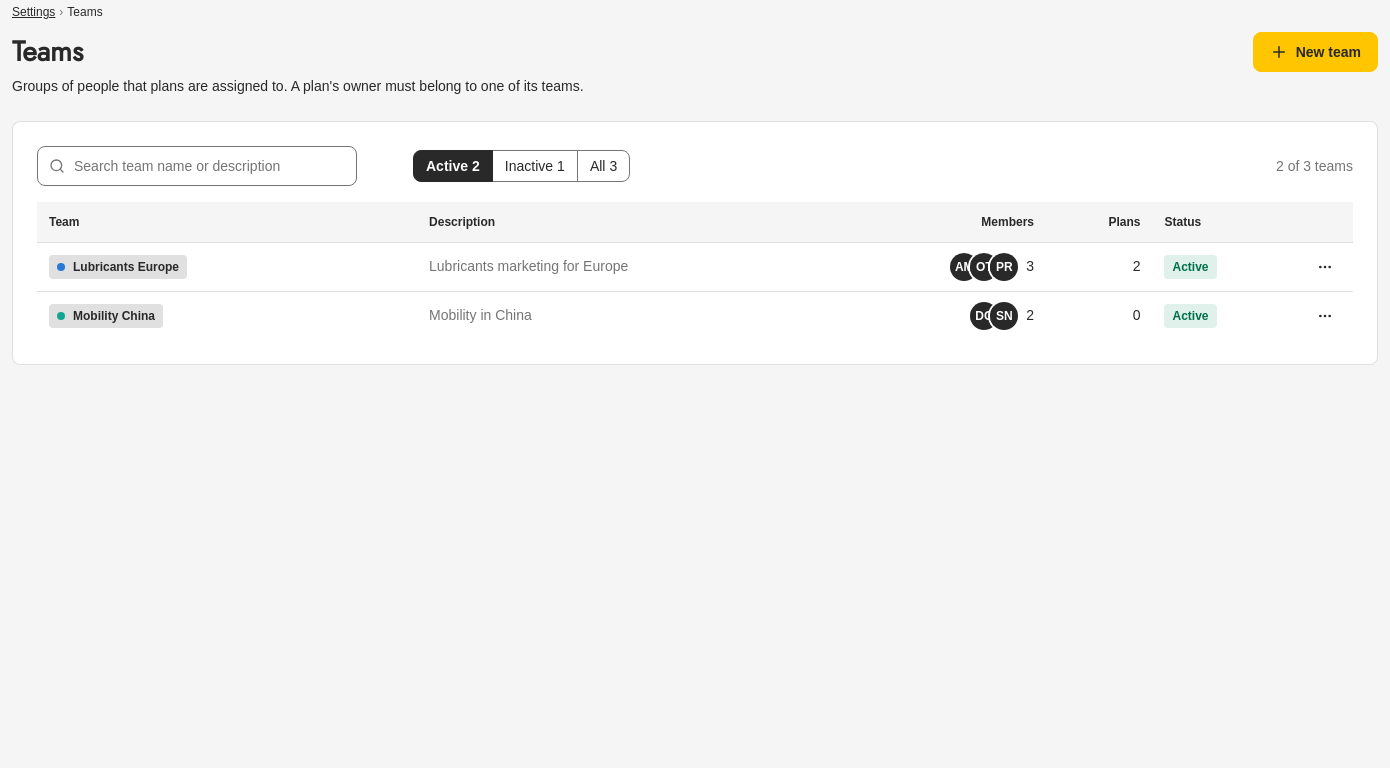
Test: TeamsPage (feature 003, US2): Delete, Set team inactive and Reactivate › sets an unused team inactive at once, with Undo (design system §6.7)
Click the button named "Actions for Mobility China" at (1325, 316), box [1309,300,1341,332]
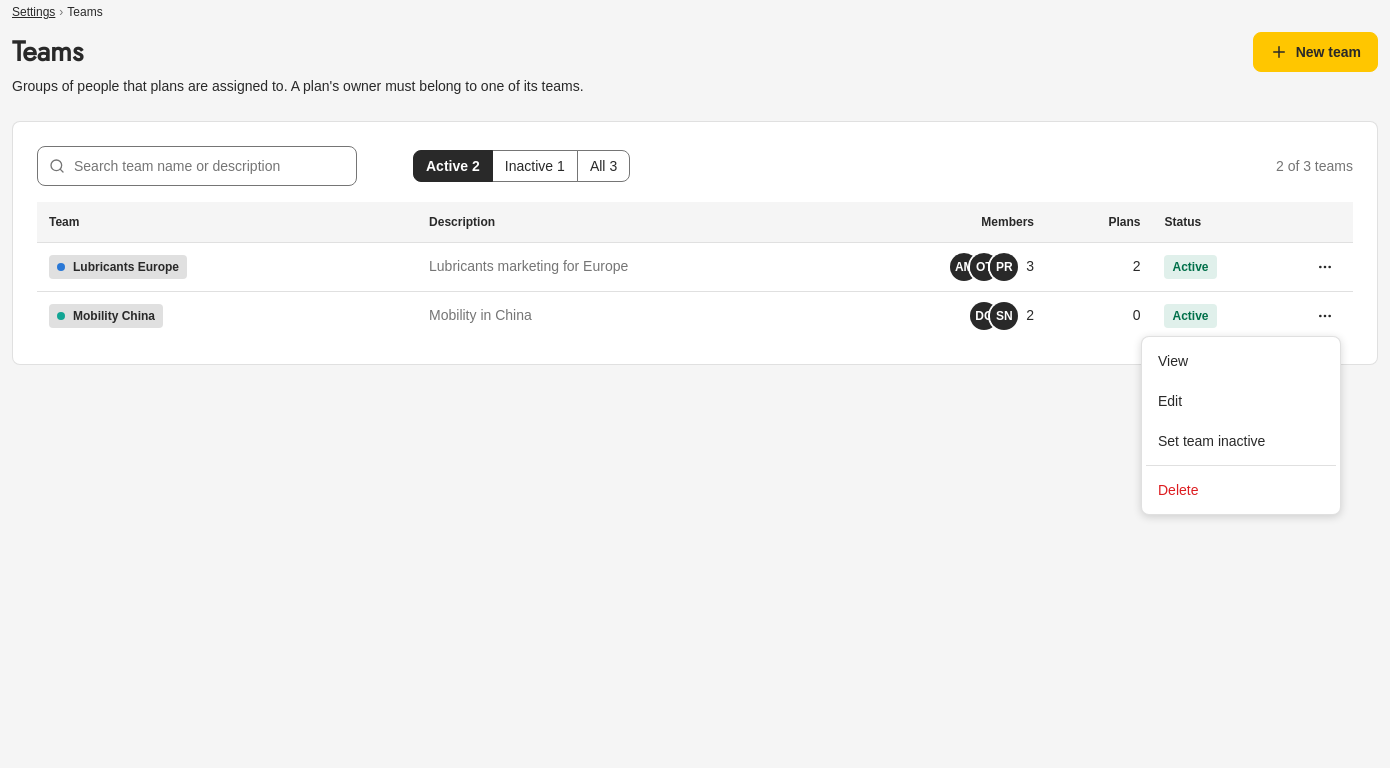
Click the menu item "Set team inactive" at (1212, 441), box [1158,433,1265,449]
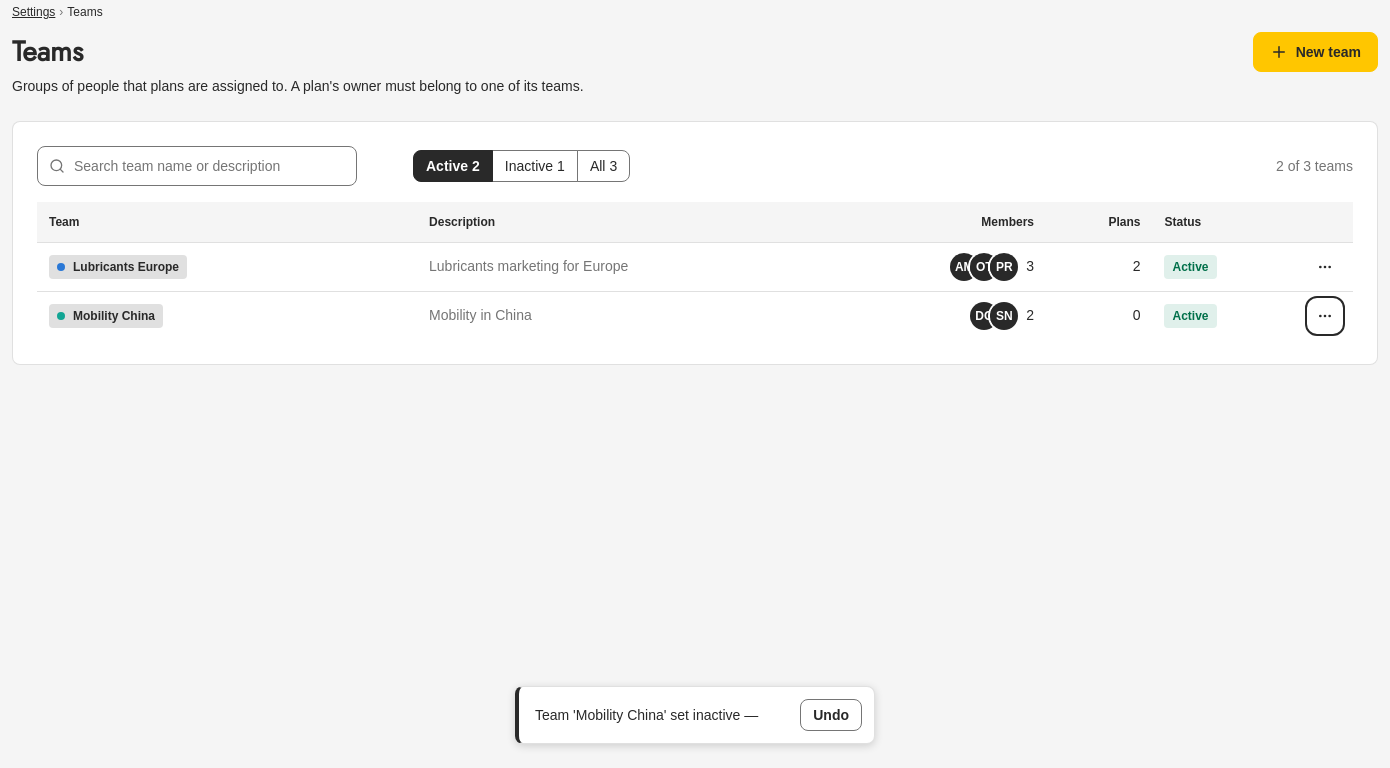
Expected: the text "Team 'Mobility China' set inactive" is shown, [535,706,744,722]
Click the button "Undo" at (831, 715), box [800,699,862,731]
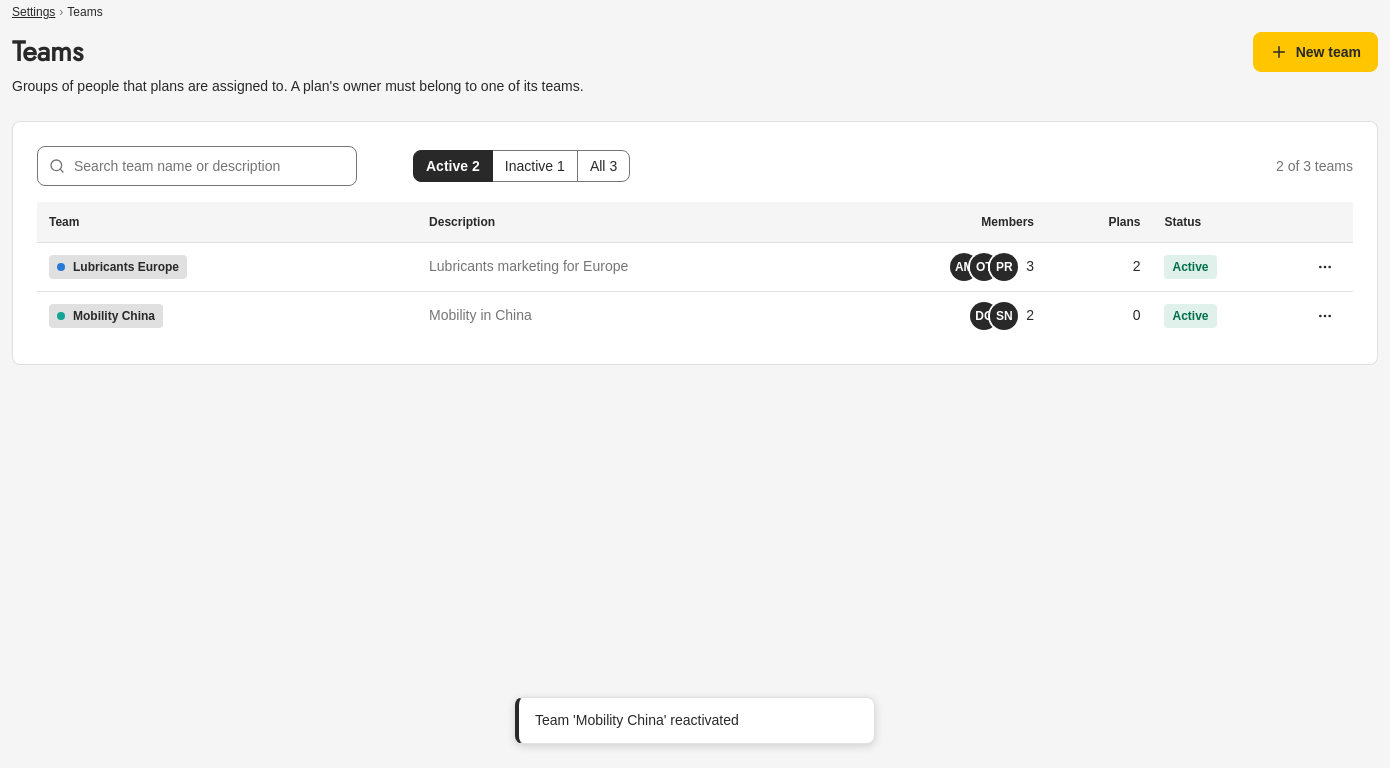
Expected: the text "Team 'Mobility China' reactivated" is shown, [535,712,739,728]
